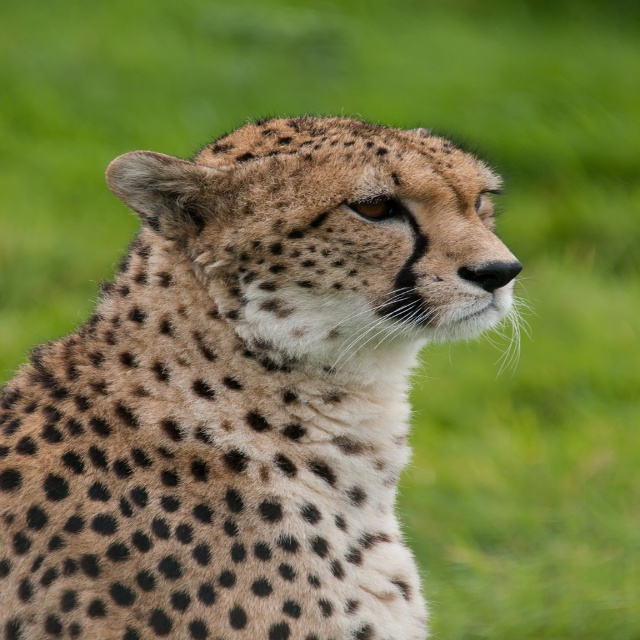Leopard: (0, 106, 542, 640)
